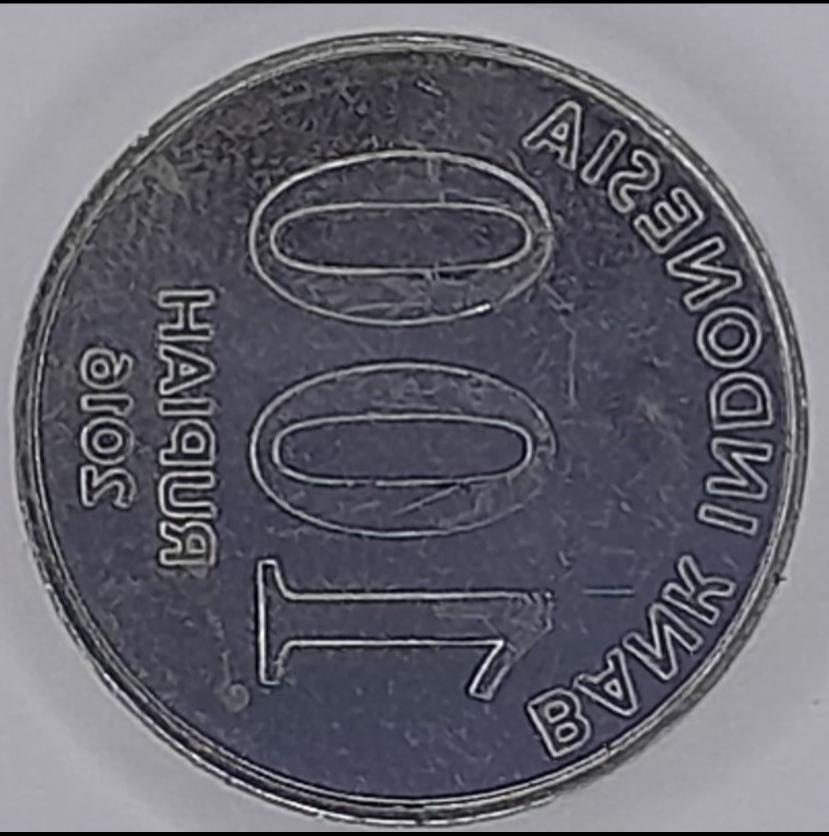coin_100_e2016: (7, 26, 813, 827)
